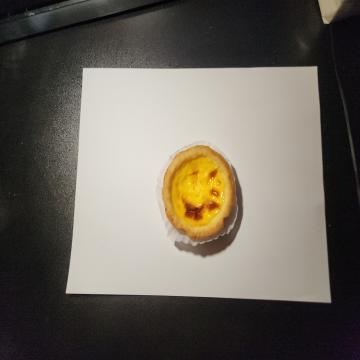EggTart: (162, 145, 236, 240)
